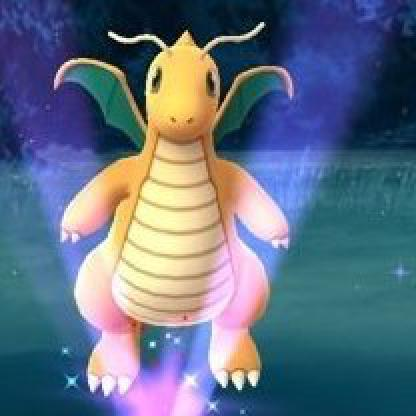Dragonite: (22, 13, 322, 387)
